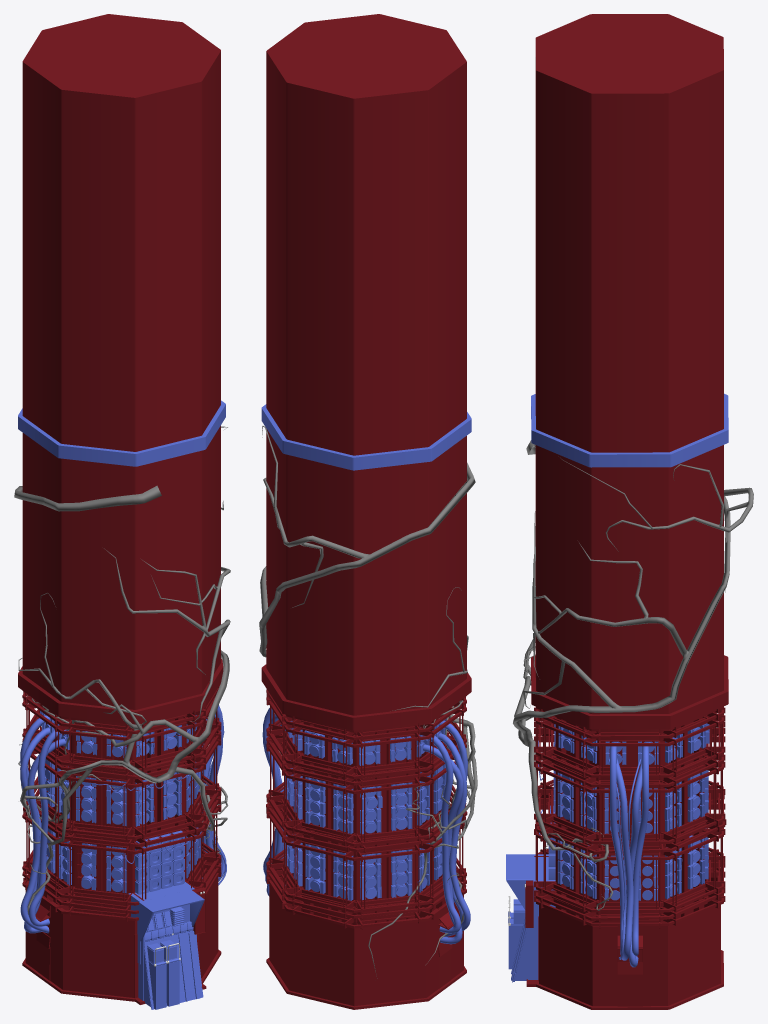
Rendered from SM_Processeur.fbx.
3 renders of one model, left to right at view 1: azimuth 30°, elevation 25°; view 2: azimuth 150°, elevation 25°; view 3: azimuth 270°, elevation 25°, orthographic.
Visible parts, largest first — view 1: Object009, Object010, SM_Processeur, Cylinder1991; view 2: Object009, Object010, SM_Processeur, Cylinder1991; view 3: Object009, Object010, SM_Processeur, Cylinder1991.
Boxes of the visible parts, x1,y1,x2,y2 form: Object009: [18, 14, 223, 1004]; Object010: [20, 705, 226, 1009]; SM_Processeur: [14, 426, 230, 914]; Cylinder1991: [18, 400, 225, 466]; Object009: [261, 14, 471, 1009]; Object010: [262, 708, 470, 944]; SM_Processeur: [259, 426, 477, 978]; Cylinder1991: [261, 404, 471, 470]; Object009: [525, 14, 728, 1009]; Object010: [506, 723, 709, 982]; SM_Processeur: [513, 440, 753, 910]; Cylinder1991: [531, 393, 728, 467].
Bounding box in the file's own units: 519 × 2165 × 530.
